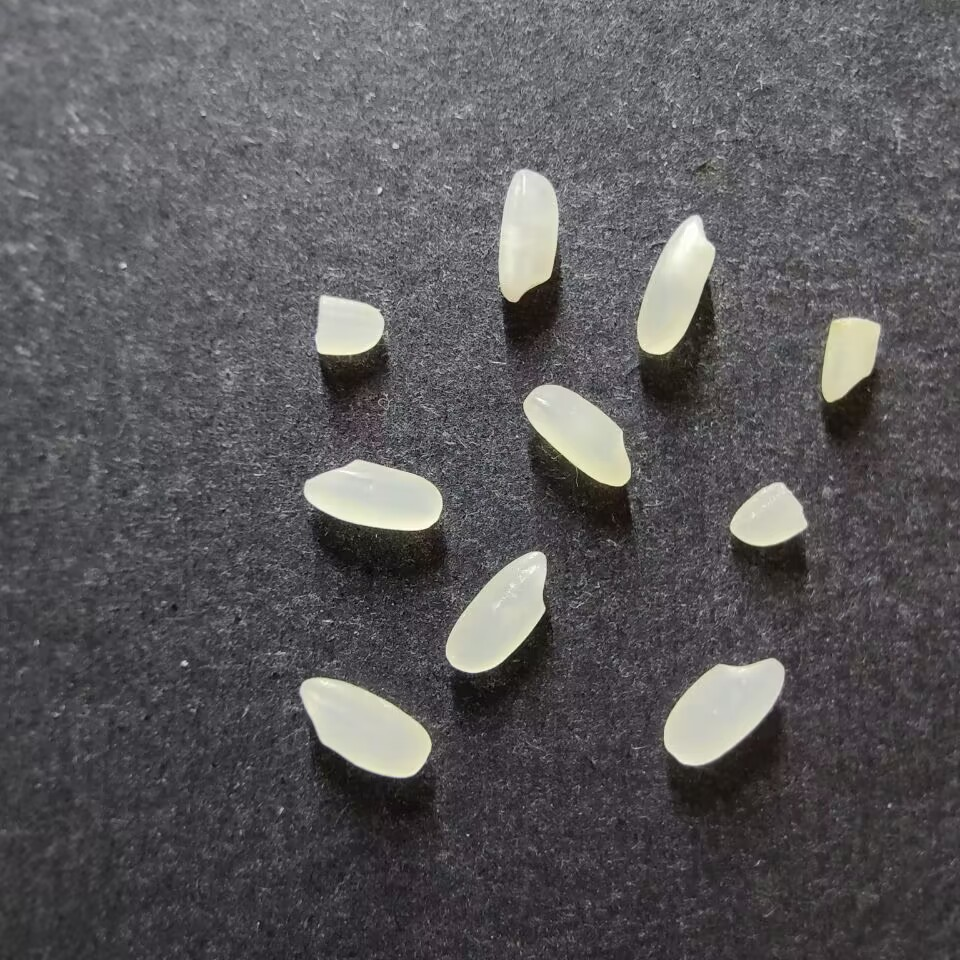broken: (820, 316, 880, 403), (729, 481, 808, 547), (314, 295, 384, 356)
rice: (299, 677, 431, 778), (663, 657, 785, 766), (444, 550, 546, 674), (522, 384, 632, 487), (635, 214, 715, 354), (302, 459, 443, 531), (497, 168, 559, 303)
